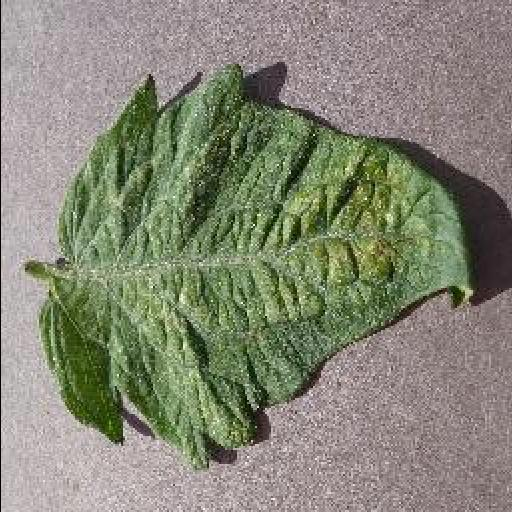disease_tomato: (35, 60, 473, 470)
